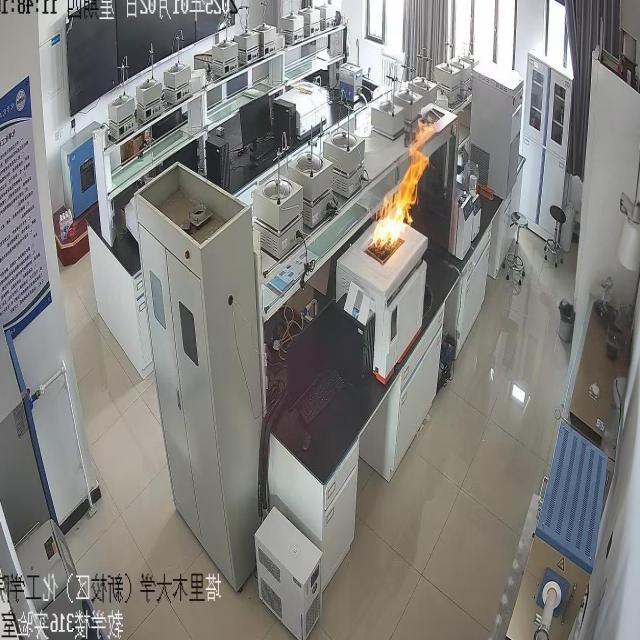smoke: (372, 115, 434, 254)
